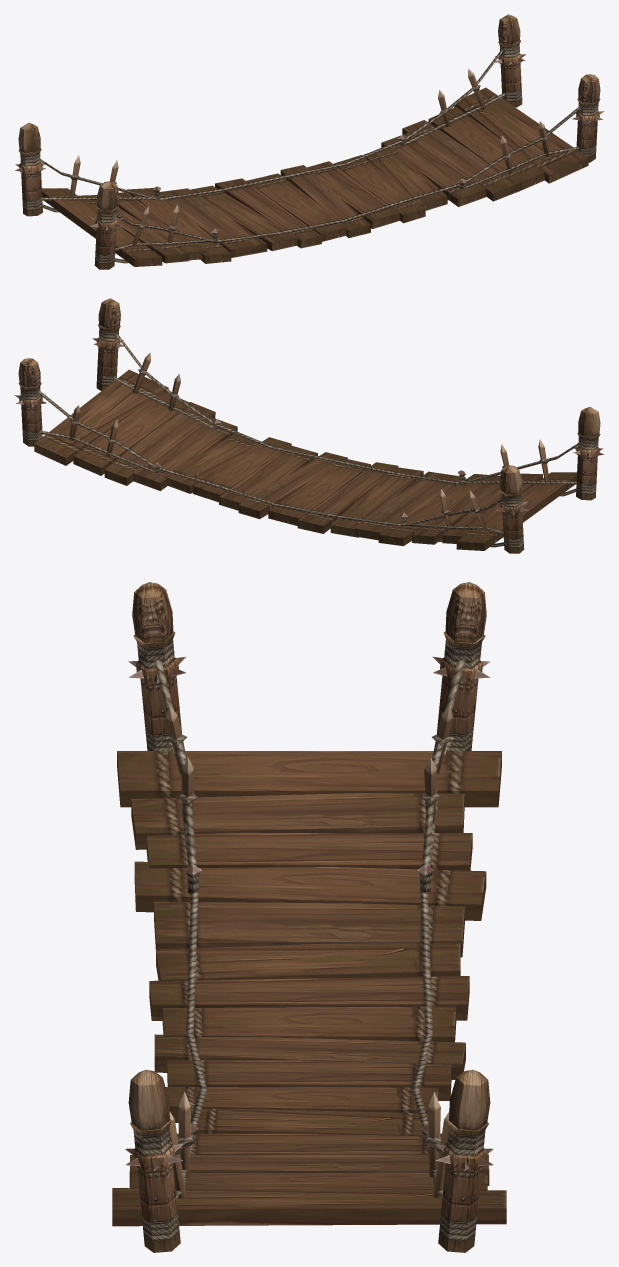
The model's file is Lty_qiao02.FBX.
3 renders of one model, top to bottom at view 1: azimuth 30°, elevation 25°; view 2: azimuth 150°, elevation 25°; view 3: azimuth 270°, elevation 25°, orthographic. The views are drawn at different scales.
Visible parts, largest first — view 1: Lty_qiao02; view 2: Lty_qiao02; view 3: Lty_qiao02.
Part boxes in pixels (x1=…): Lty_qiao02: x1=14, y1=14, x2=604, y2=269; Lty_qiao02: x1=14, y1=298, x2=604, y2=553; Lty_qiao02: x1=112, y1=582, x2=506, y2=1252.
Size of the model in its own units: 899 by 298 by 201.
